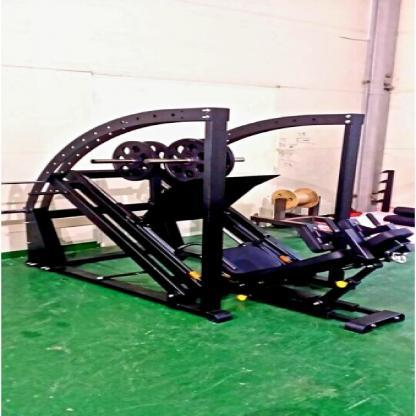leg press: (13, 87, 412, 339)
